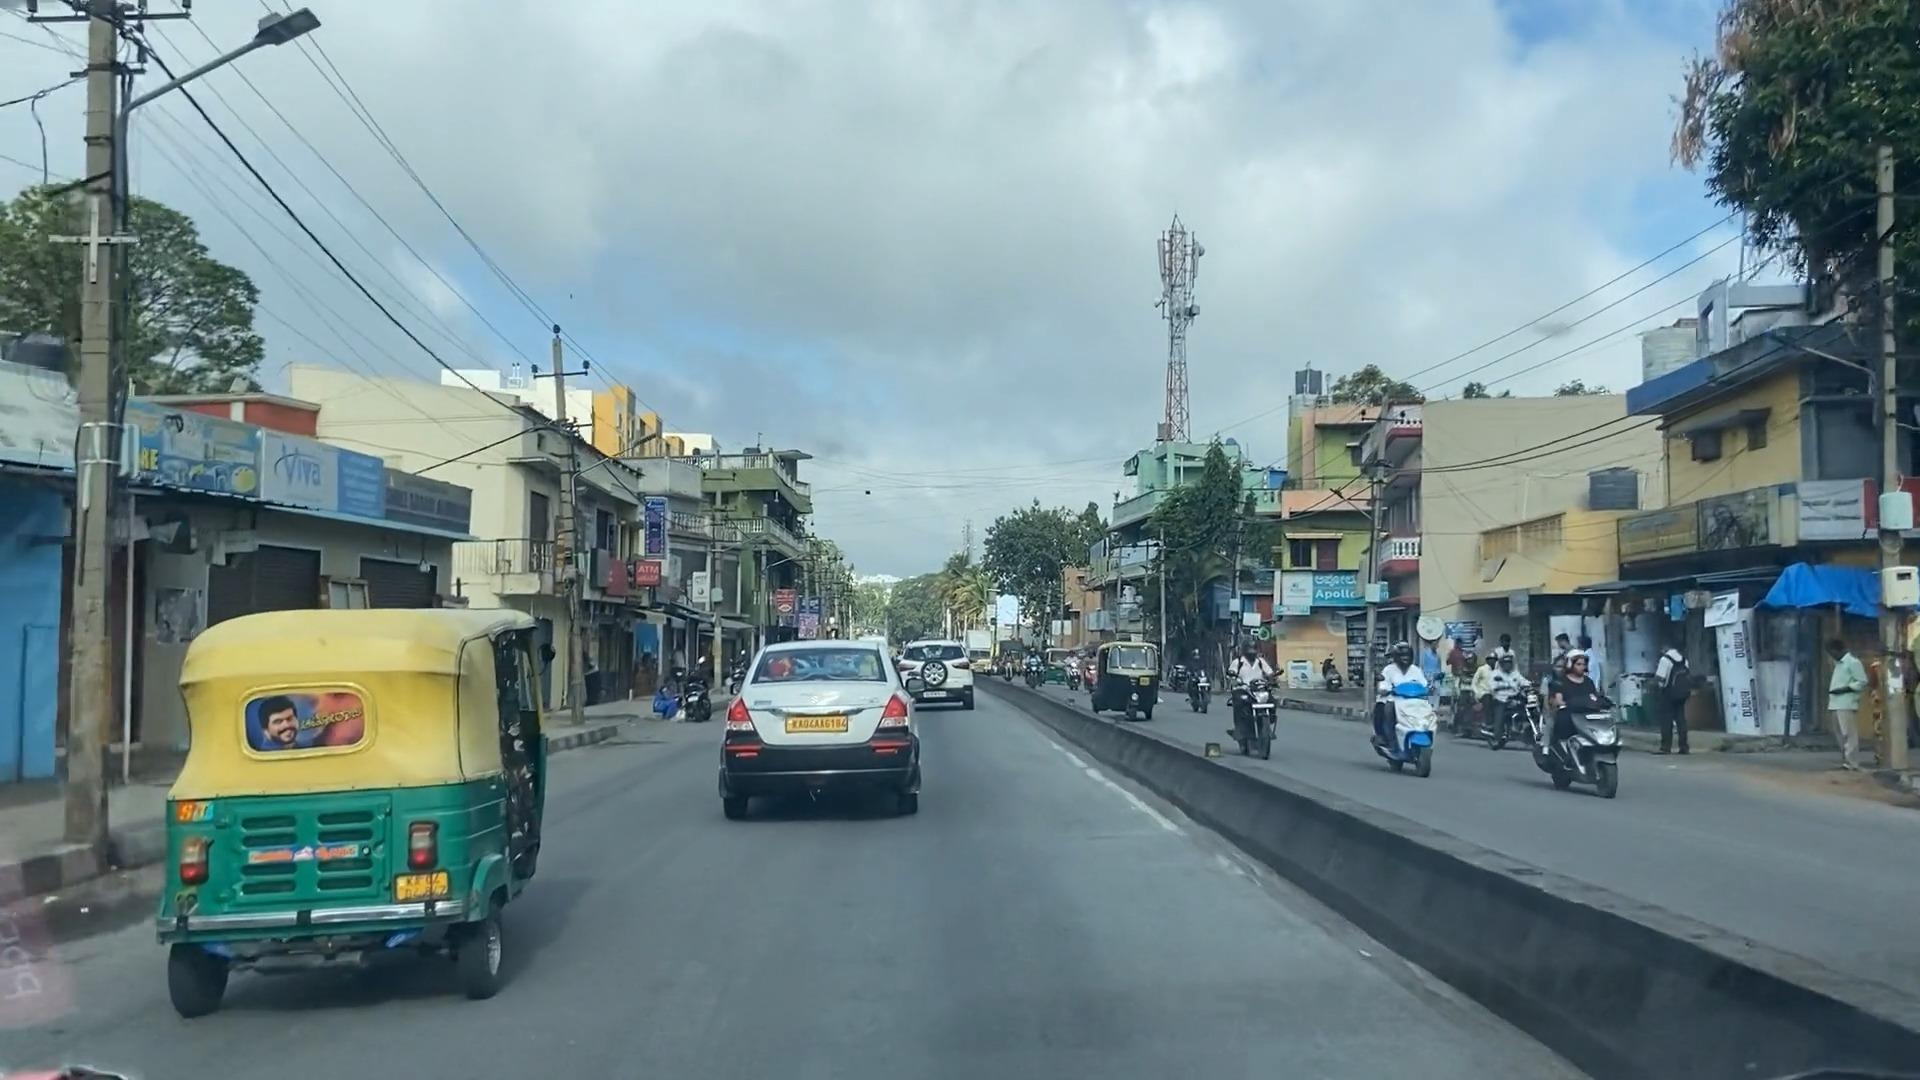LMV: (173, 611, 543, 1010), (724, 641, 924, 814)
